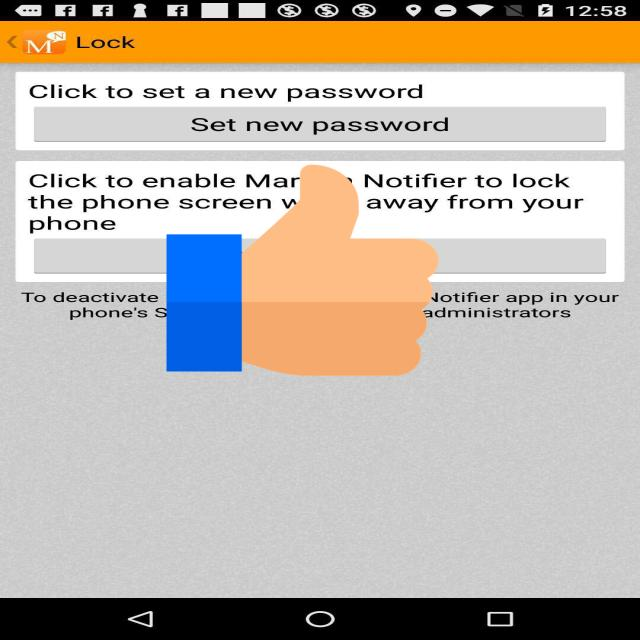privacy zuckering: (166, 159, 438, 381)
